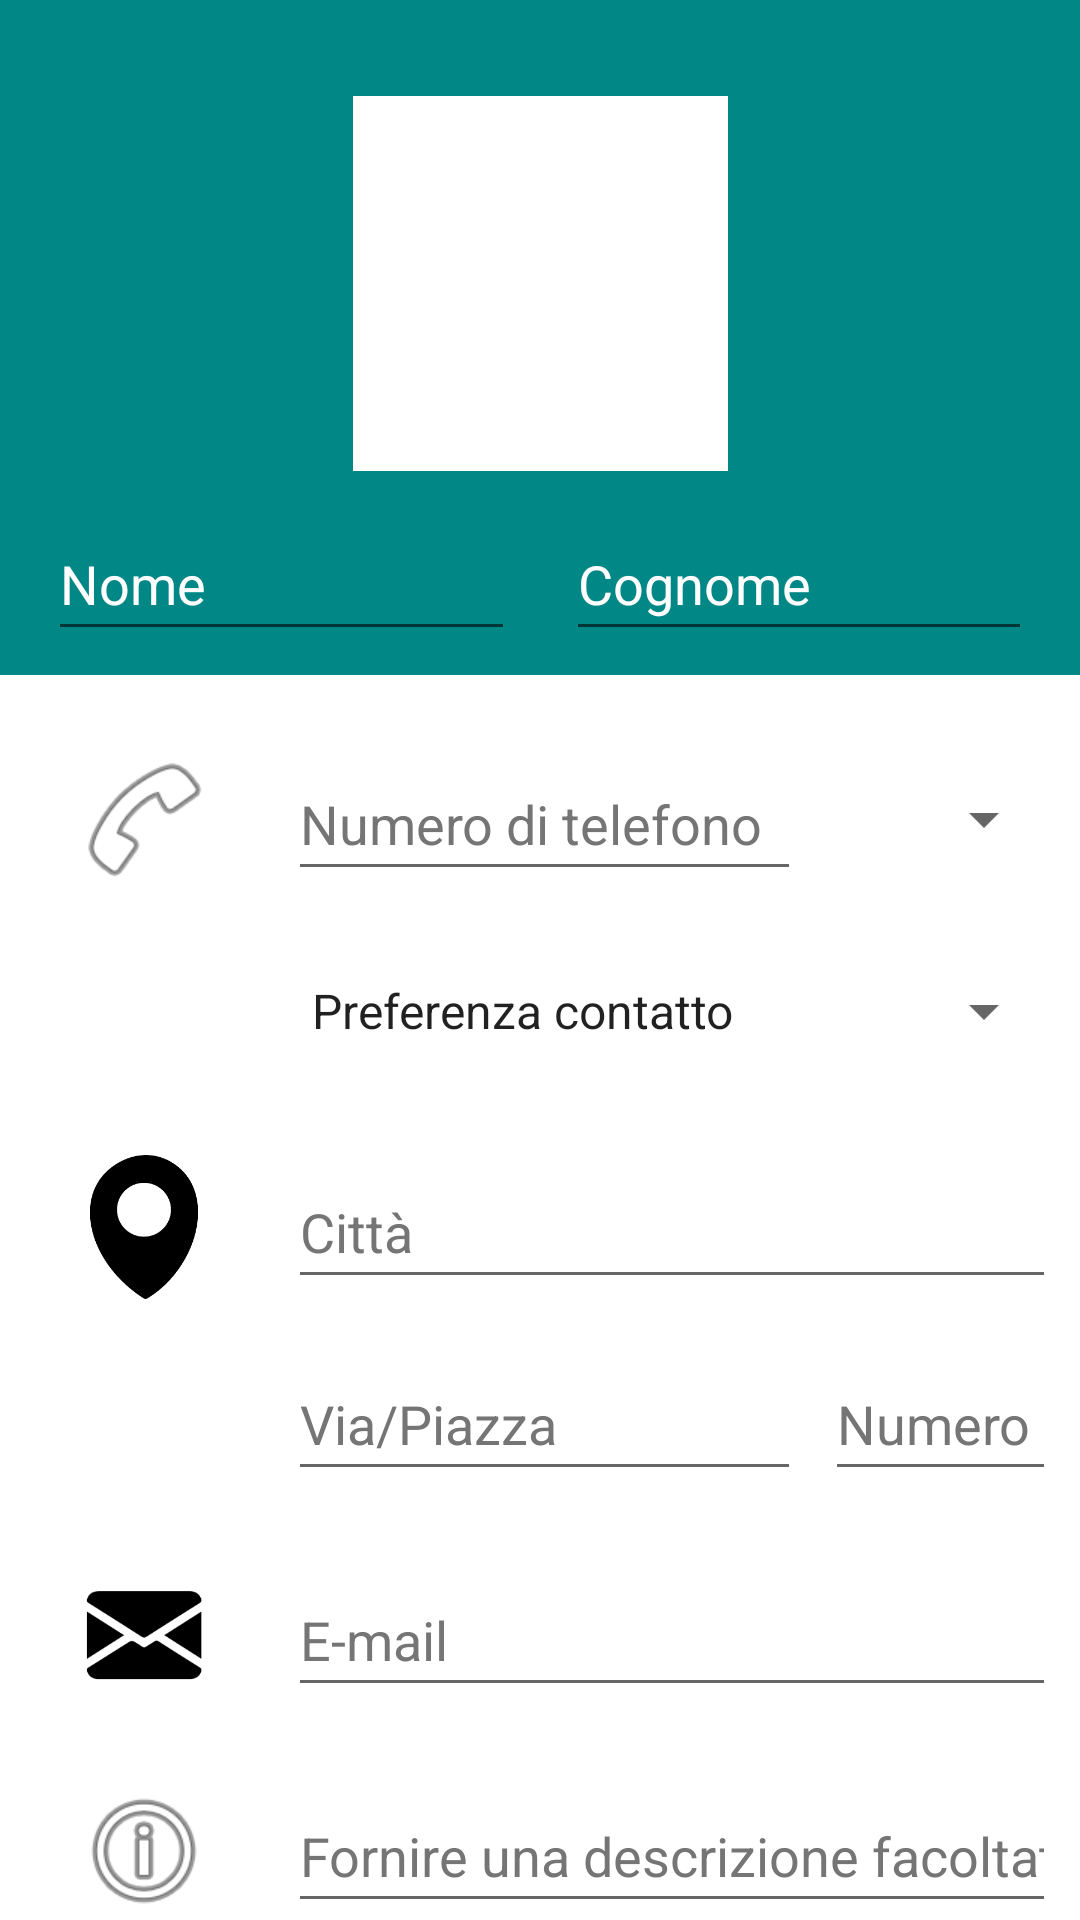

Icon click points for this 1080 x 1920 phone screenshot, format (x,y):
INFO: (144,1851)
location: (144,1227)
Phone: (144,819)
